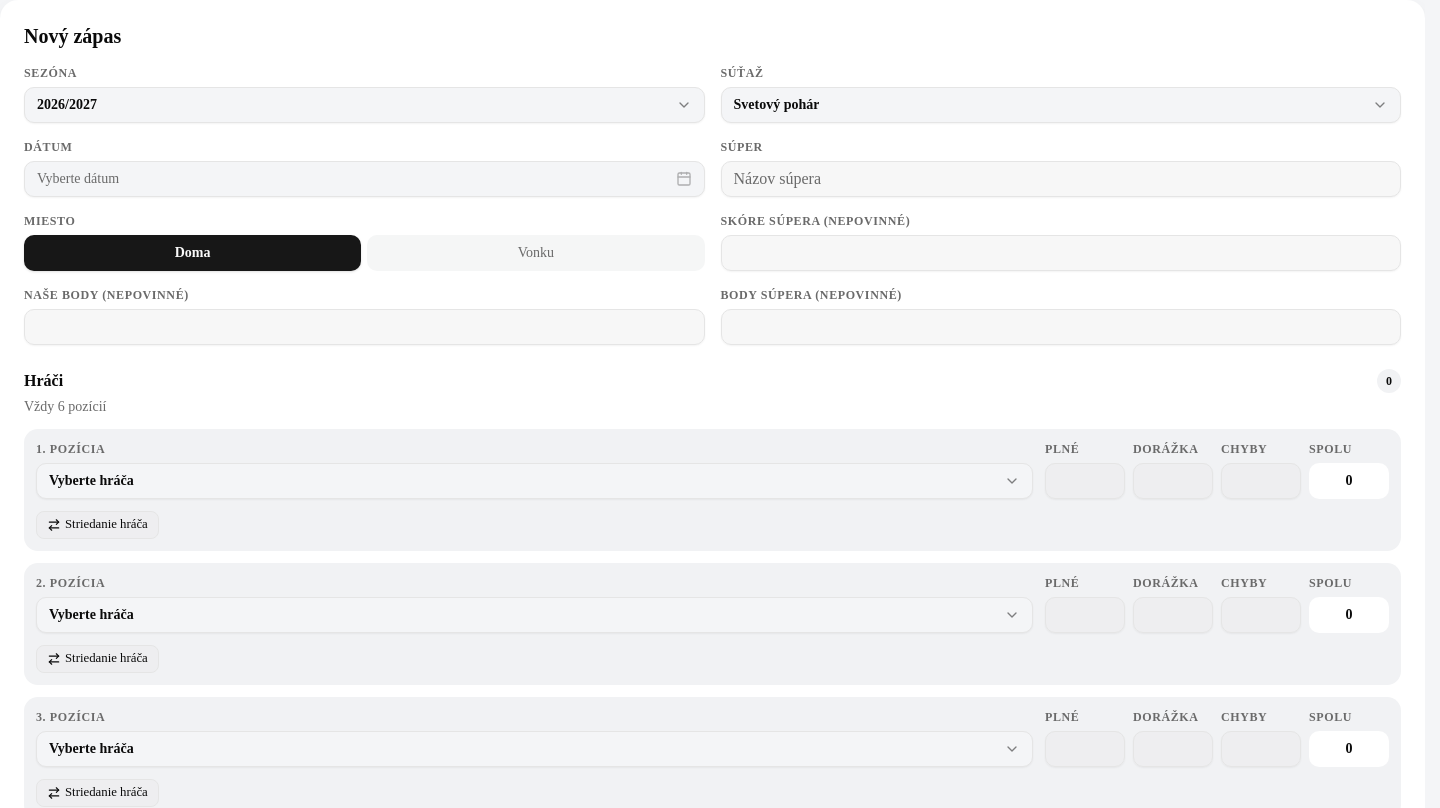
Test: substitutions › opens a substitute section with its own throw and results in the same card
This screenshot has width=1440, height=808.
Step 1. Click the button "Striedanie hráča" below "2. pozícia" → (97, 659), box [36,645,159,673]
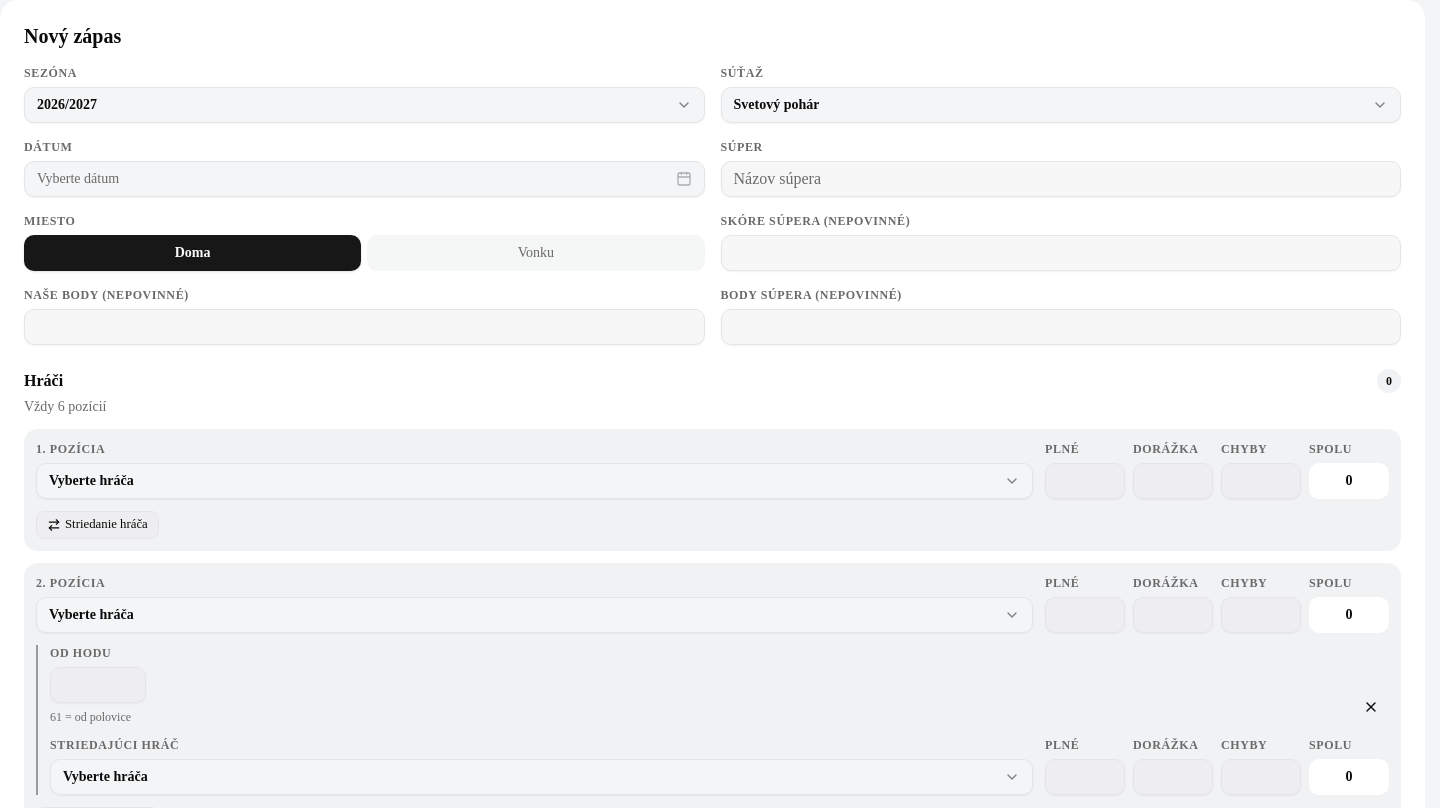
Check: the number field labelled "Od hodu" is not empty, box [50,667,146,703]
Check: the text "Striedajúci hráč" is shown, box [50,738,179,752]
